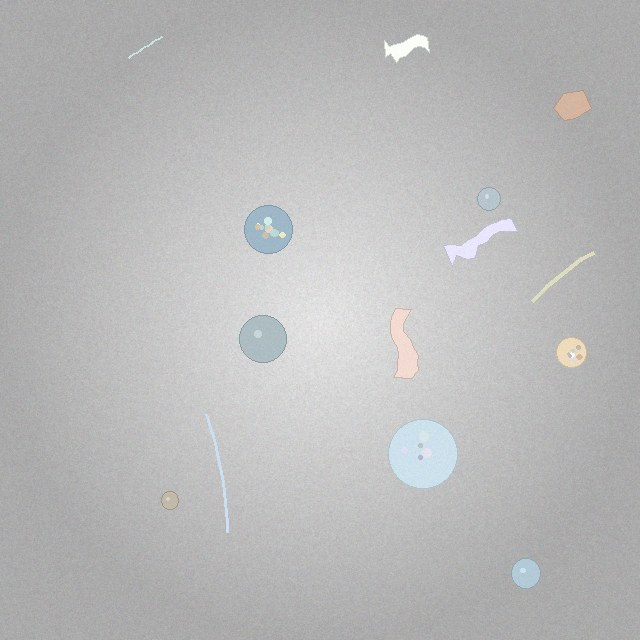fiber: (528, 248, 598, 306), (203, 411, 231, 536), (125, 35, 164, 61)
film: (444, 219, 517, 267), (390, 309, 419, 378), (384, 35, 430, 62)
foam: (388, 419, 457, 489), (245, 205, 293, 254), (557, 338, 587, 368)
fragment: (553, 91, 592, 121)
pellet: (239, 315, 287, 363), (511, 559, 541, 589), (478, 187, 501, 210), (161, 492, 178, 509)
